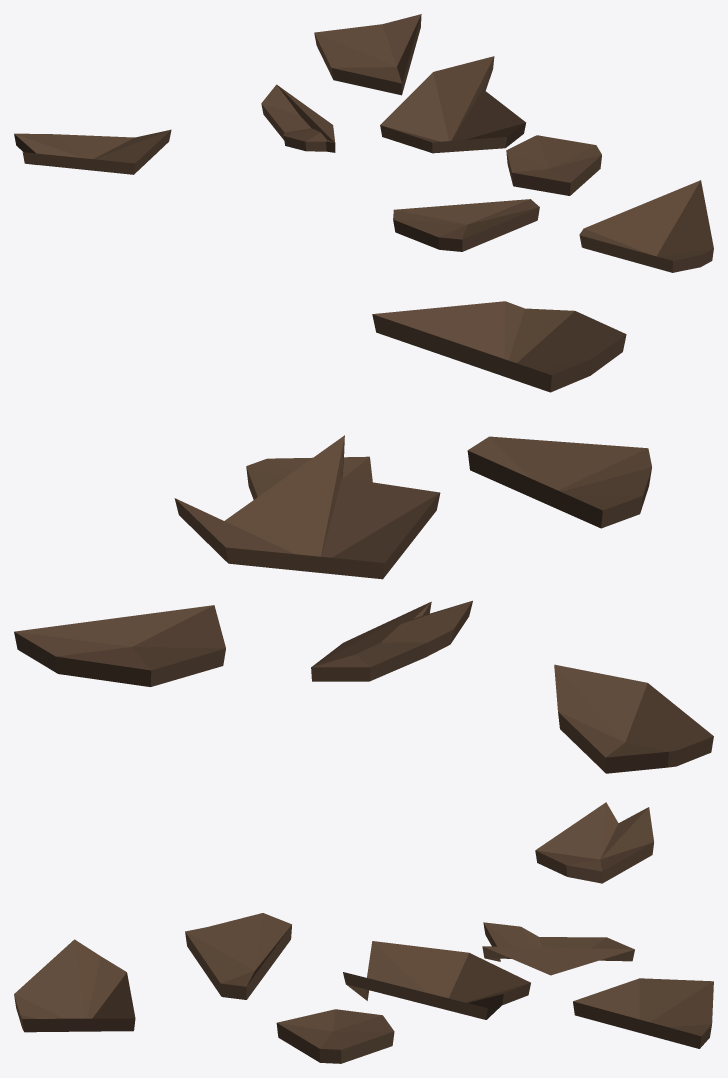
The model's file is desert_debris_0.glb.
The picture shows the model from 3 angles, top to bottom: view 1: azimuth 30°, elevation 25°; view 2: azimuth 150°, elevation 25°; view 3: azimuth 270°, elevation 25°; orthographic projection. The views are drawn at different scales.
Parts seen in each view (by area): view 1: DesertDebris_Plates; view 2: DesertDebris_Plates; view 3: DesertDebris_Plates.
Boxes of the visible parts, x1=… form: DesertDebris_Plates: x1=14, y1=14, x2=713, y2=272; DesertDebris_Plates: x1=14, y1=301, x2=713, y2=773; DesertDebris_Plates: x1=14, y1=802, x2=713, y2=1063.
Size of what is drawn, in the model's own units: 0.9957 by 0.1205 by 1.23.
